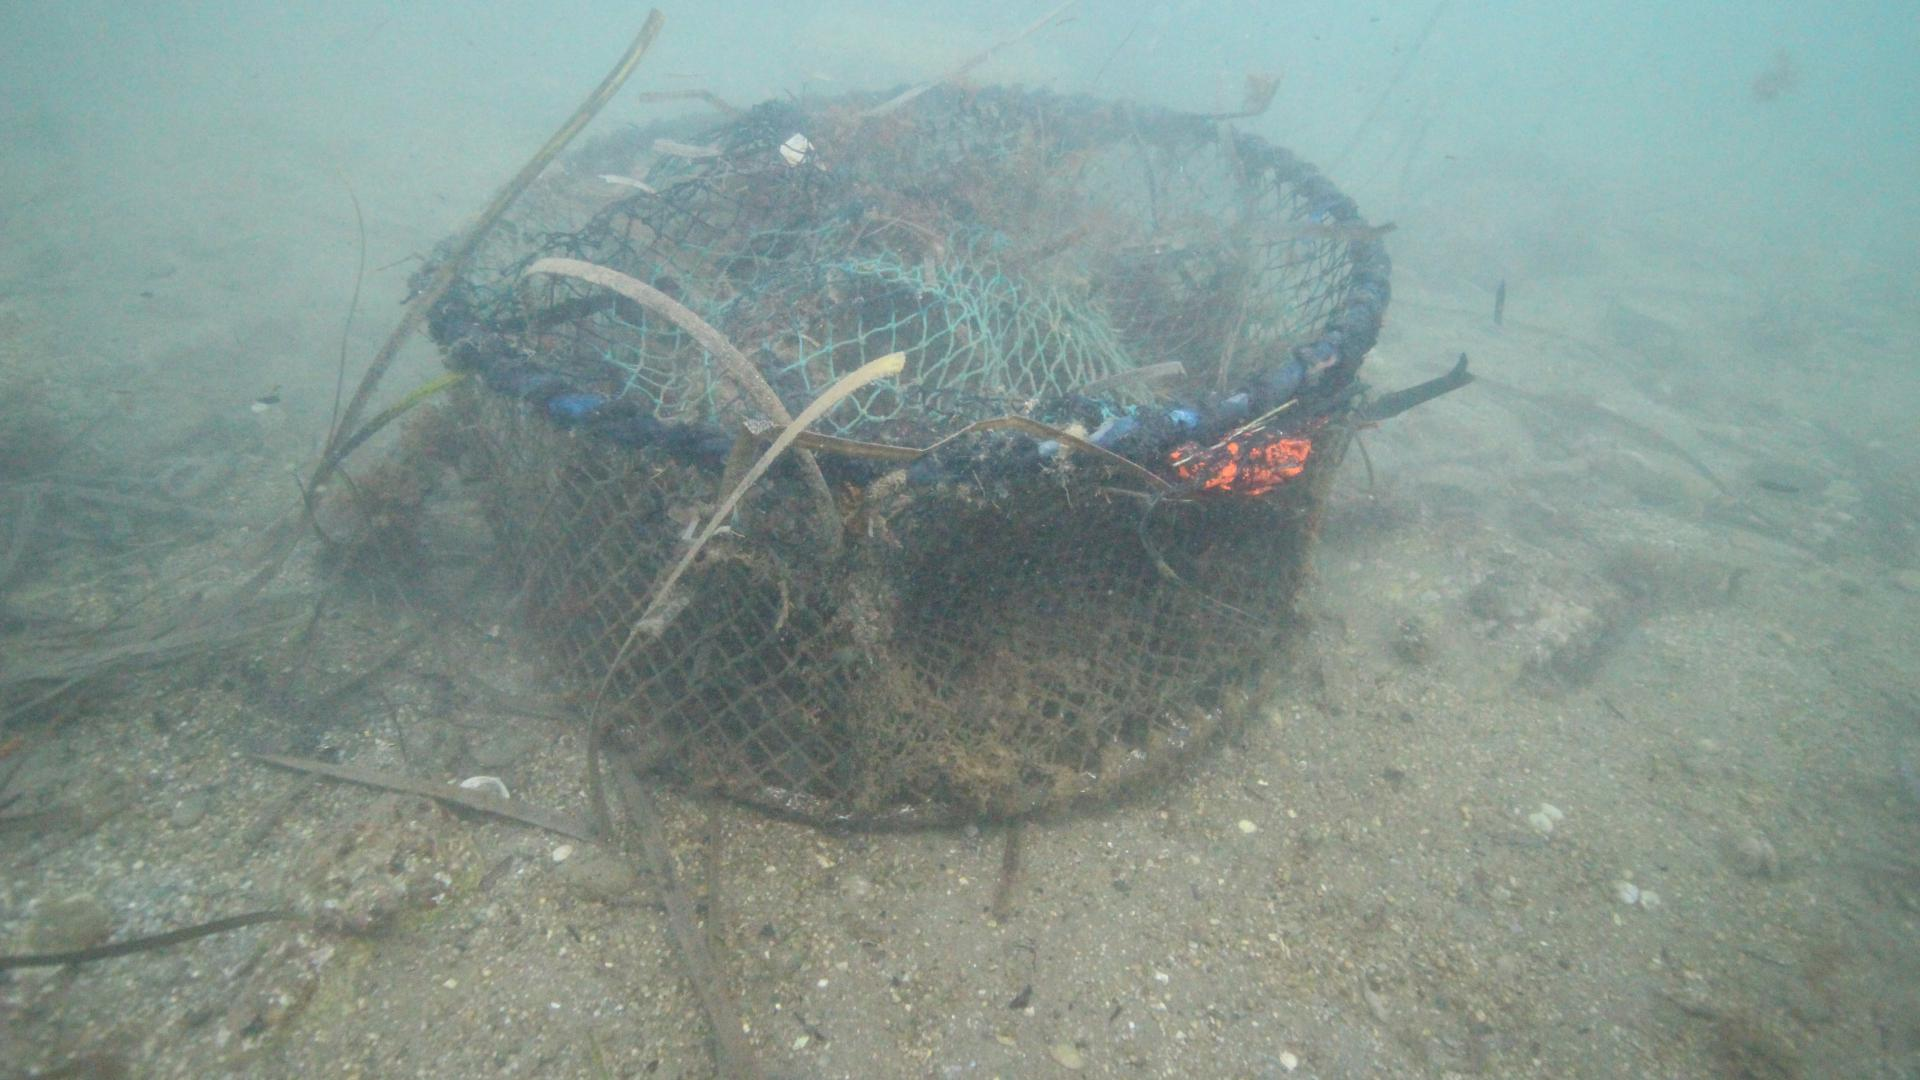circular fish trap: (418, 83, 1395, 829)
